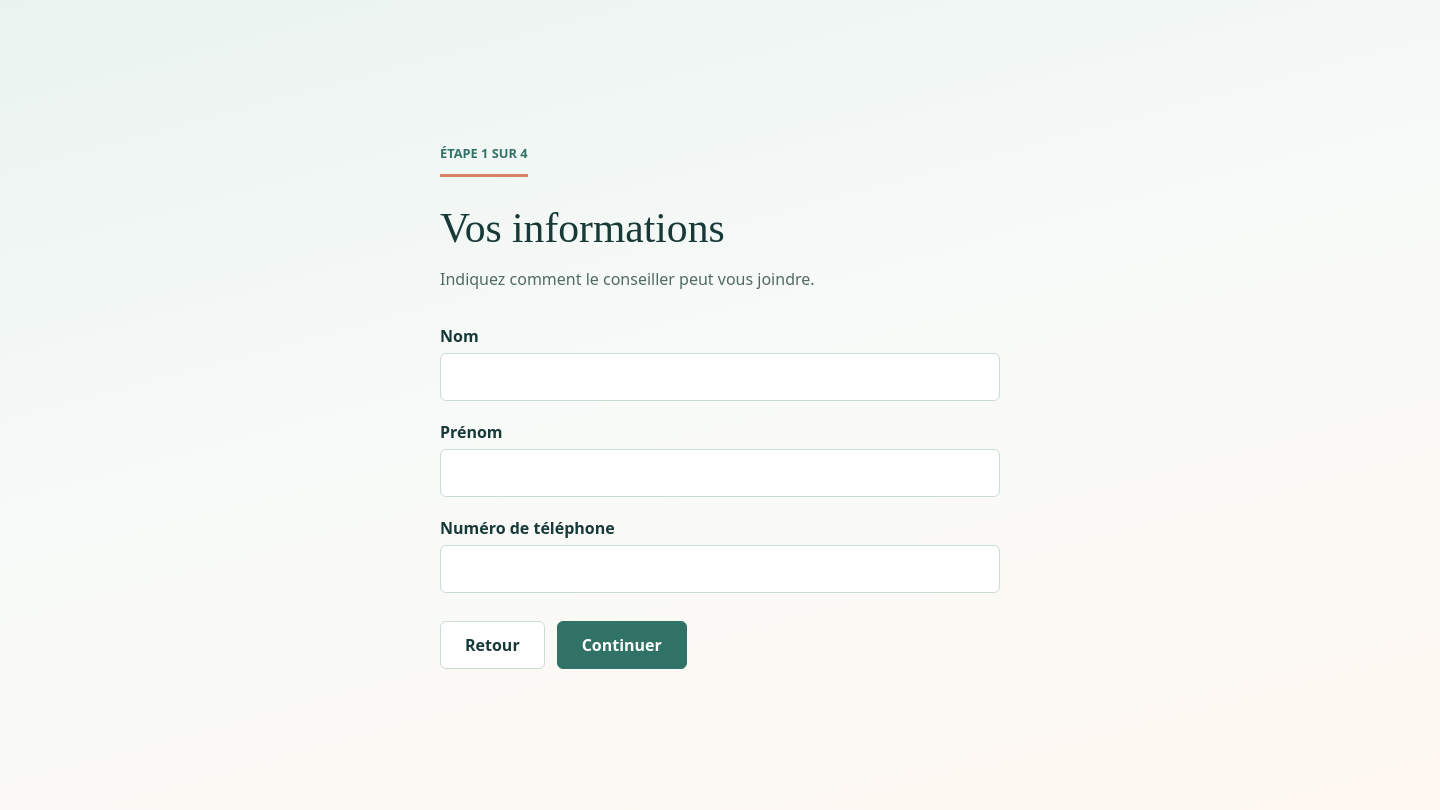
Scenario: Parcours client › refuse l'identité incomplète ou invalide sans changer d'écran
Click the button "Continuer".
click(622, 645)  # box [557,621,687,669]
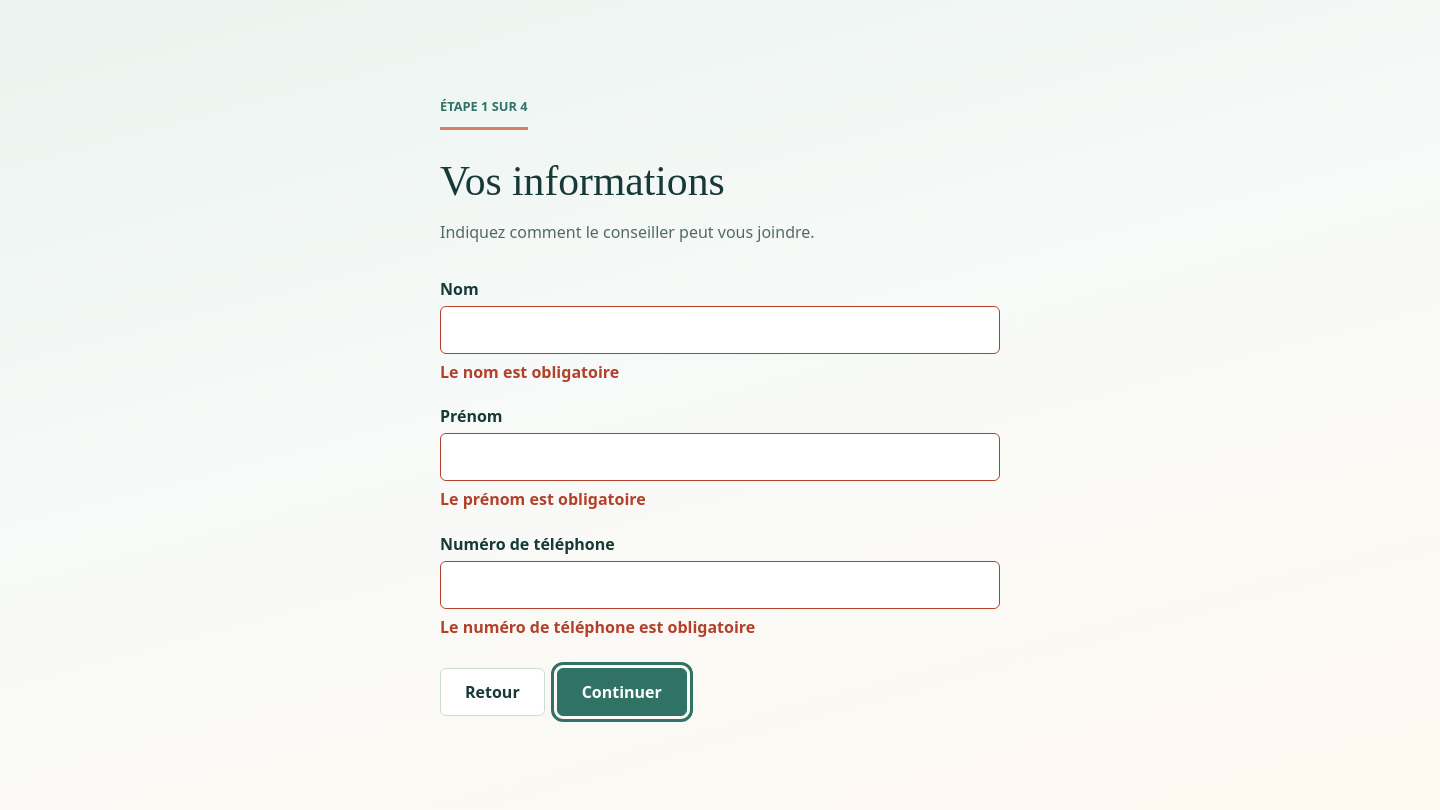
Expected: the text "Le nom est obligatoire" is shown, [440,361,619,383]
Expected: the text "Le prénom est obligatoire" is shown, [440,488,646,510]
Expected: the text "Le numéro de téléphone est obligatoire" is shown, [440,616,755,638]
Type "abc" into the field labelled "Numéro de téléphone".
click(720, 585); type("abc")  # box [440,561,1000,609]
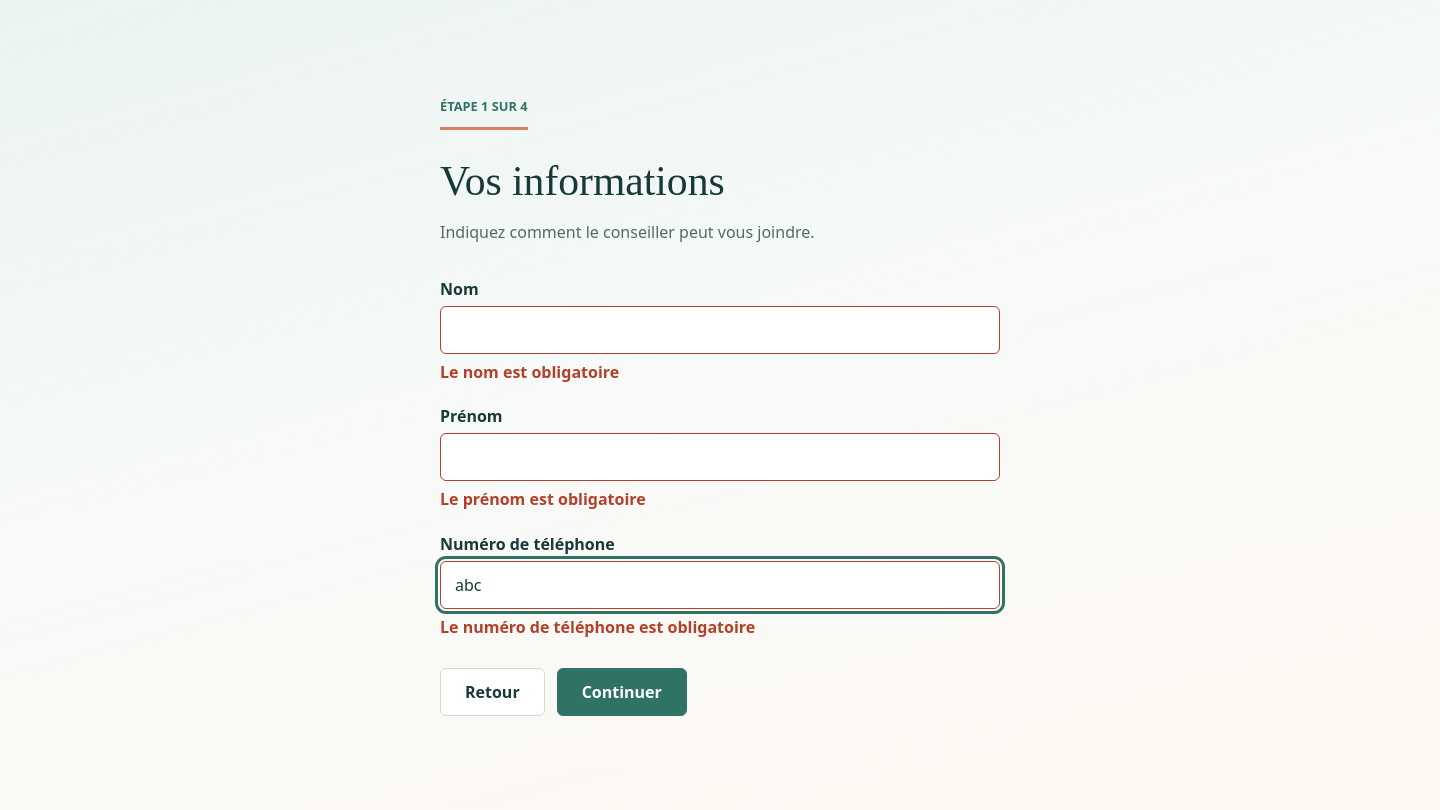
Click the button "Continuer".
click(622, 692)  # box [557,668,687,716]
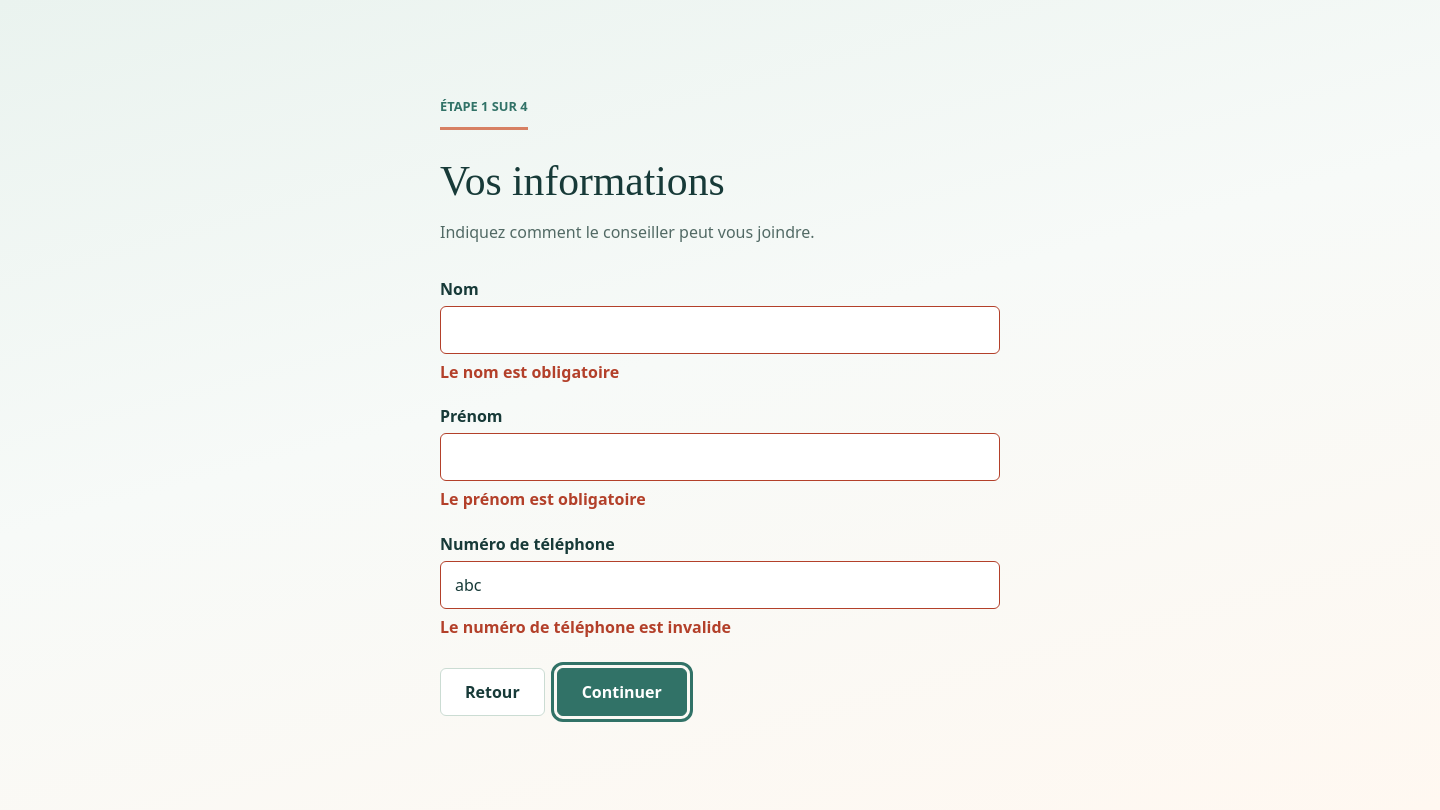
Expected: the heading "Vos informations" is shown, [440,158,725,204]
Expected: the text "Le numéro de téléphone est invalide" is shown, [440,616,731,638]
